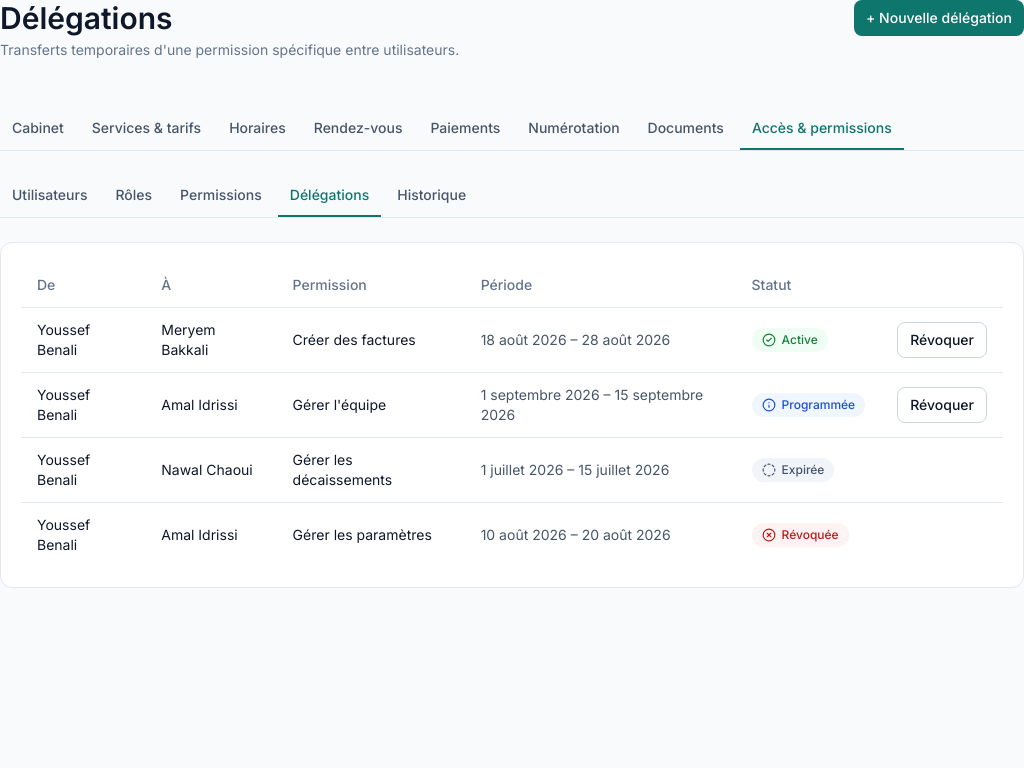
Scenario: DelegationsPage › revoking the active delegation moves it to Révoquée after confirmation
What coordinates should you click on to do the following:
click the button "Révoquer" in the row of "Meryem Bakkali"
I would click on:
 (942, 340)
Its box is [897,322,987,358].
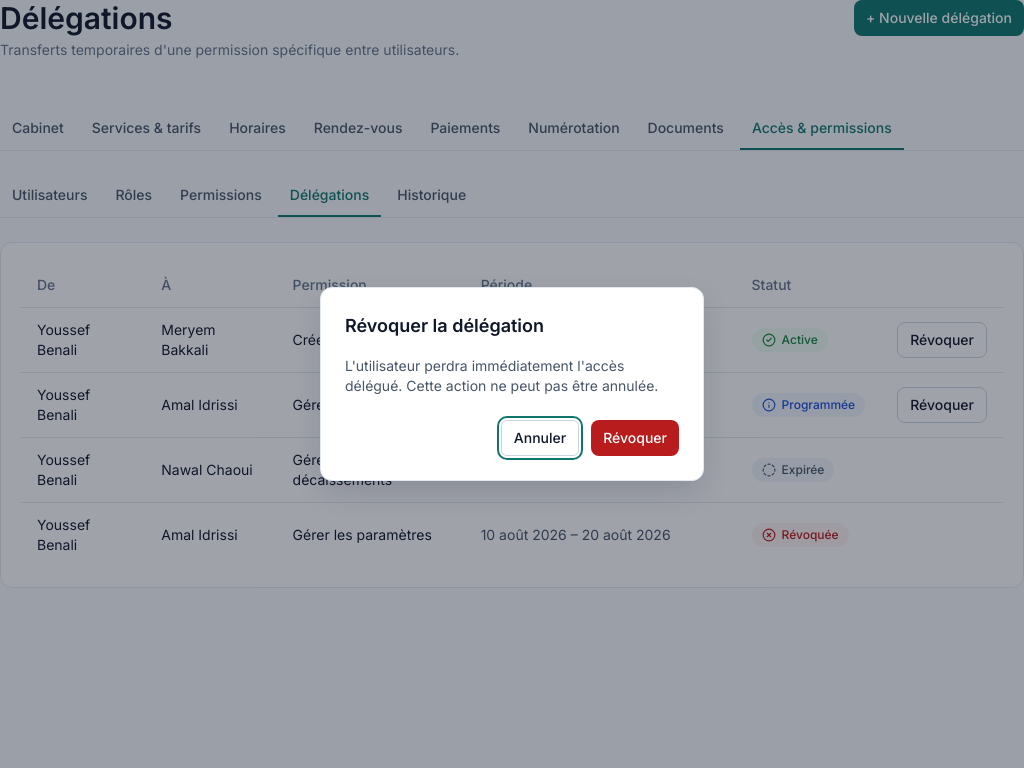
What coordinates should you click on to do the following:
click the button "Révoquer"
I would click on:
 (635, 438)
Its box is [591,420,679,456].
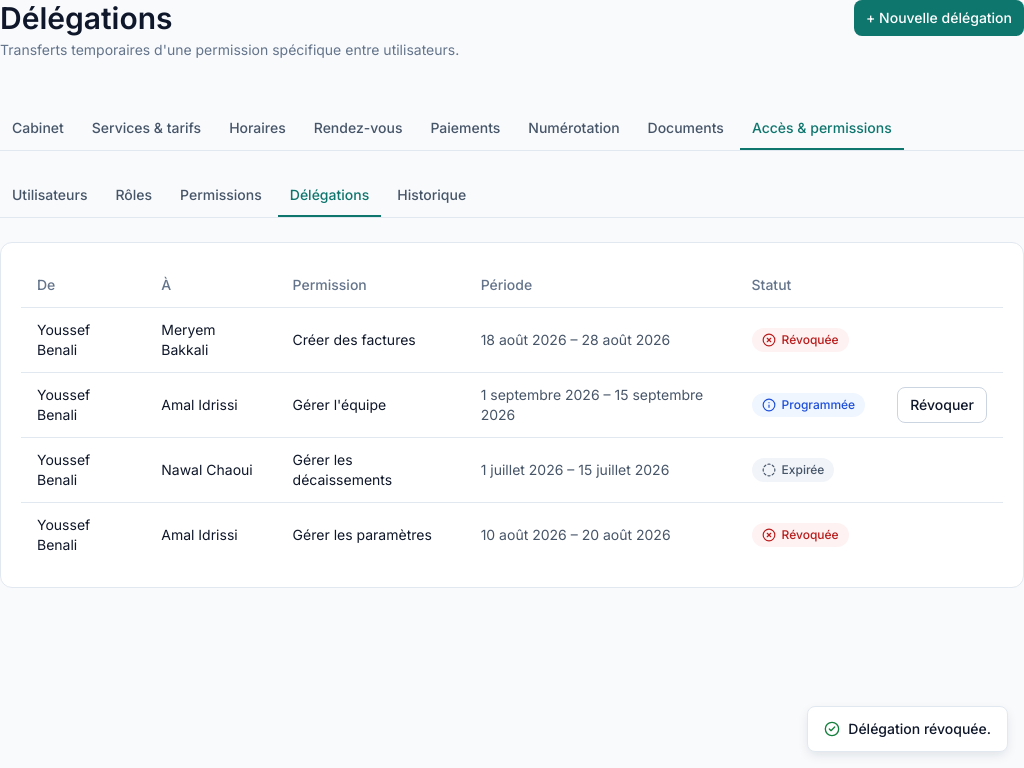
Expected: the text "Délégation révoquée." is shown, [807,706,1008,752]
